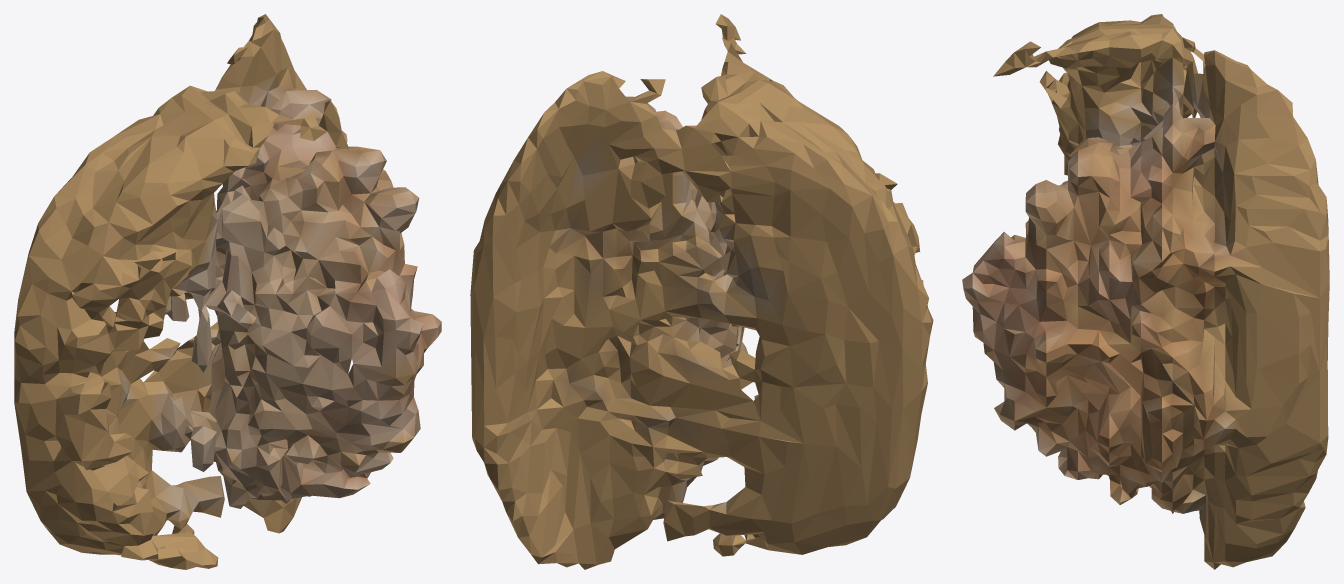
The model's file is fallen_leaves.glb.
3 renders of one model, left to right at view 1: azimuth 30°, elevation 25°; view 2: azimuth 150°, elevation 25°; view 3: azimuth 270°, elevation 25°, orthographic.
Parts seen in each view (by area): view 1: world; view 2: world; view 3: world.
Boxes of the visible parts, bbox=[...] form: world: bbox=[14, 14, 441, 569]; world: bbox=[470, 14, 933, 569]; world: bbox=[962, 14, 1329, 569].
Bounding box in the file's own units: 0.1654 × 0.2 × 0.1308.
